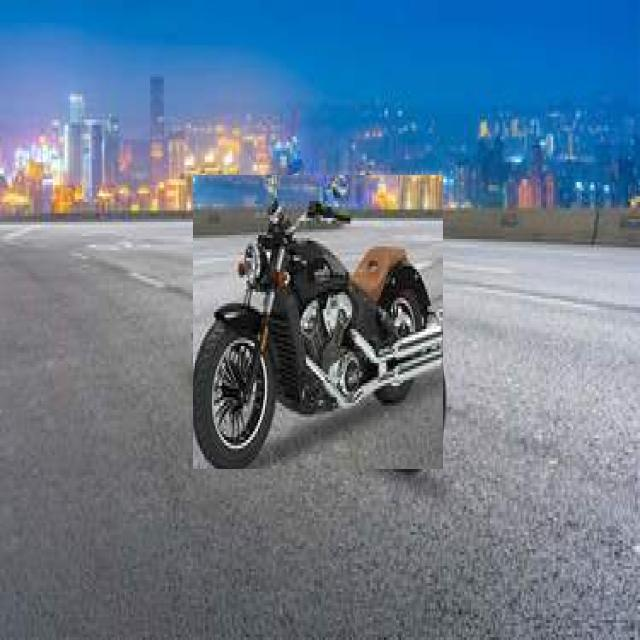motorcycle: (194, 175, 443, 469)
